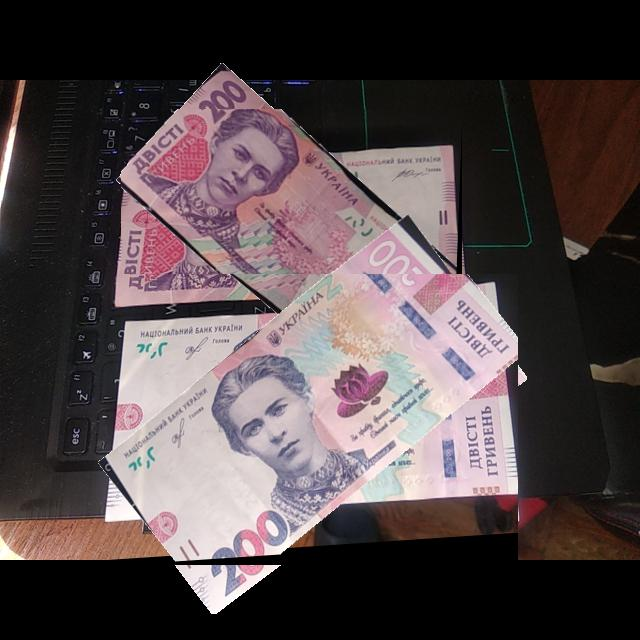200uah: (107, 274, 519, 566), (121, 109, 463, 357)
